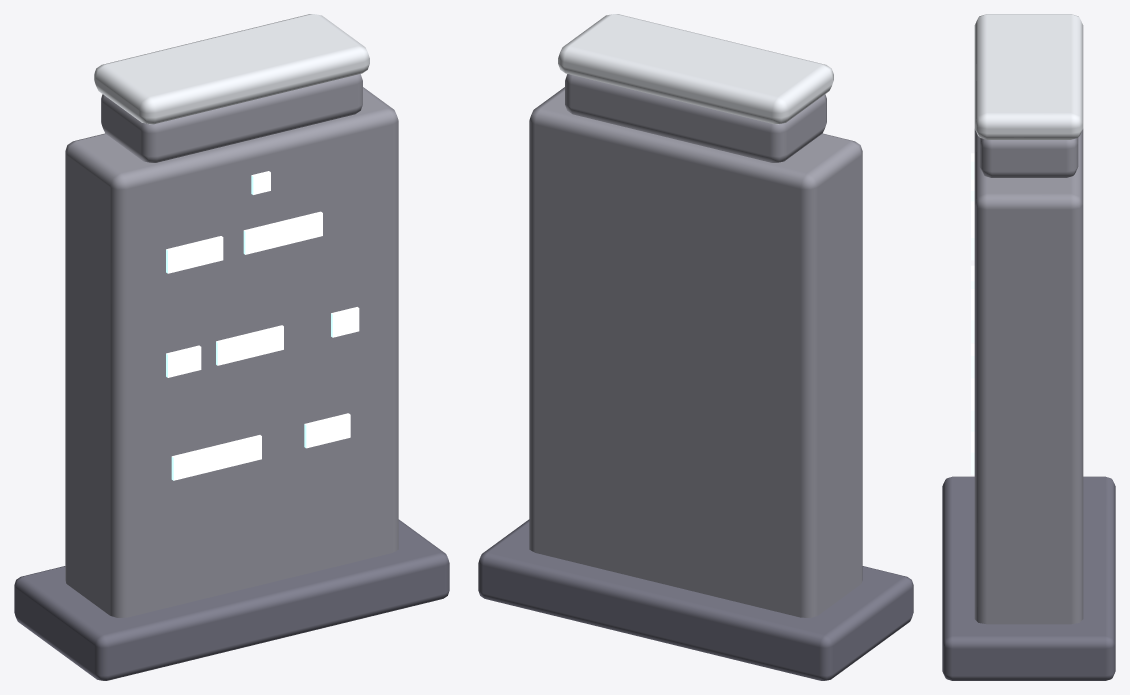
Rendered from rune_stone.glb.
The picture shows the model from 3 angles, left to right: view 1: azimuth 30°, elevation 25°; view 2: azimuth 150°, elevation 25°; view 3: azimuth 270°, elevation 25°; orthographic projection. The views are drawn at different scales.
Parts seen in each view (by area): view 1: slab, base, snow_cap, slab_top, rune2_0, rune0_1, rune1_1, rune0_0, rune2_1, rune1_0, rune1_2; view 2: slab, base, snow_cap, slab_top; view 3: slab, base, snow_cap, slab_top.
Part boxes in pixels (x1,y1,x2,y2): slab: [65, 87, 398, 617]; base: [14, 519, 449, 680]; snow_cap: [94, 14, 369, 124]; slab_top: [101, 74, 362, 162]; rune2_0: [171, 435, 261, 480]; rune0_1: [243, 211, 322, 254]; rune1_1: [216, 325, 283, 365]; rune0_0: [166, 236, 223, 273]; rune2_1: [304, 413, 350, 448]; rune1_0: [166, 345, 201, 377]; rune1_2: [331, 307, 359, 337]; slab: [529, 87, 862, 617]; base: [478, 519, 913, 680]; snow_cap: [558, 14, 833, 124]; slab_top: [565, 74, 826, 162]; slab: [974, 129, 1083, 624]; base: [942, 476, 1115, 680]; snow_cap: [974, 14, 1083, 139]; slab_top: [979, 138, 1078, 177].
Bounding box in the file's own units: 1.6 × 2.4 × 0.7.
